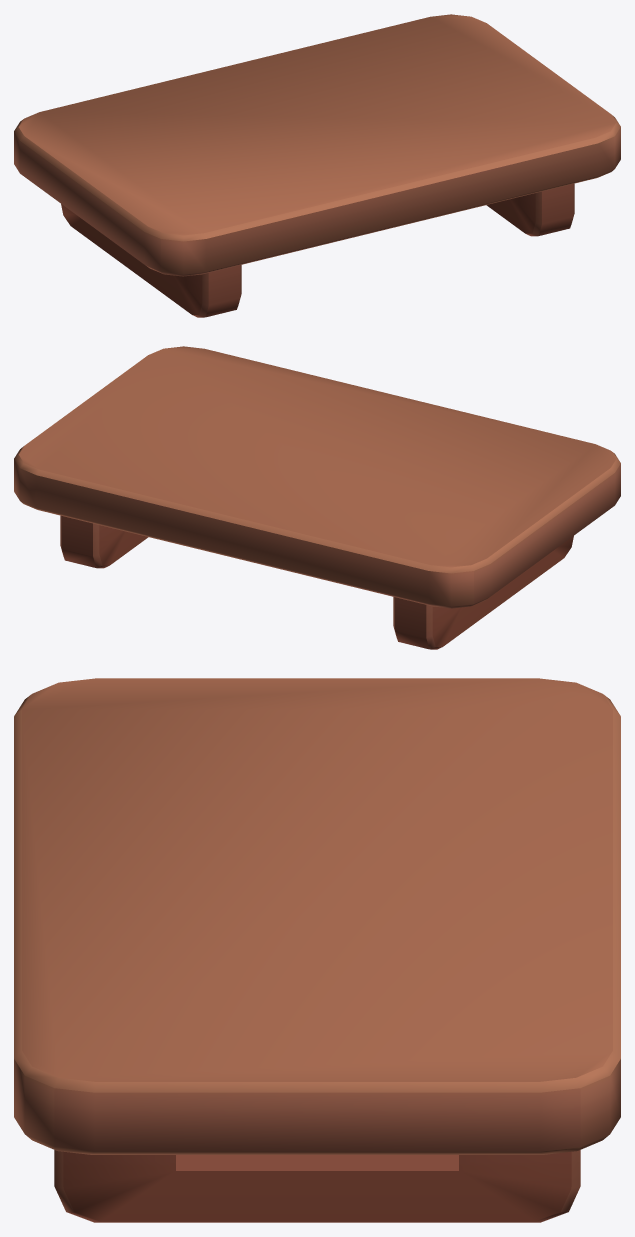
Rendered from fur-table-low.glb.
3 views of the same model, one above another, from view 1: azimuth 30°, elevation 25°; view 2: azimuth 150°, elevation 25°; view 3: azimuth 270°, elevation 25° (orthographic). The views are drawn at different scales.
Parts seen in each view (by area): view 1: table_low; view 2: table_low; view 3: table_low.
Part boxes in pixels (<box>): table_low: <box>14,14,620,317</box>; table_low: <box>14,346,620,649</box>; table_low: <box>14,678,620,1222</box>.
Size of the model in its own units: 2.4 by 0.4998 by 1.5.
1 material, 1 textured.
